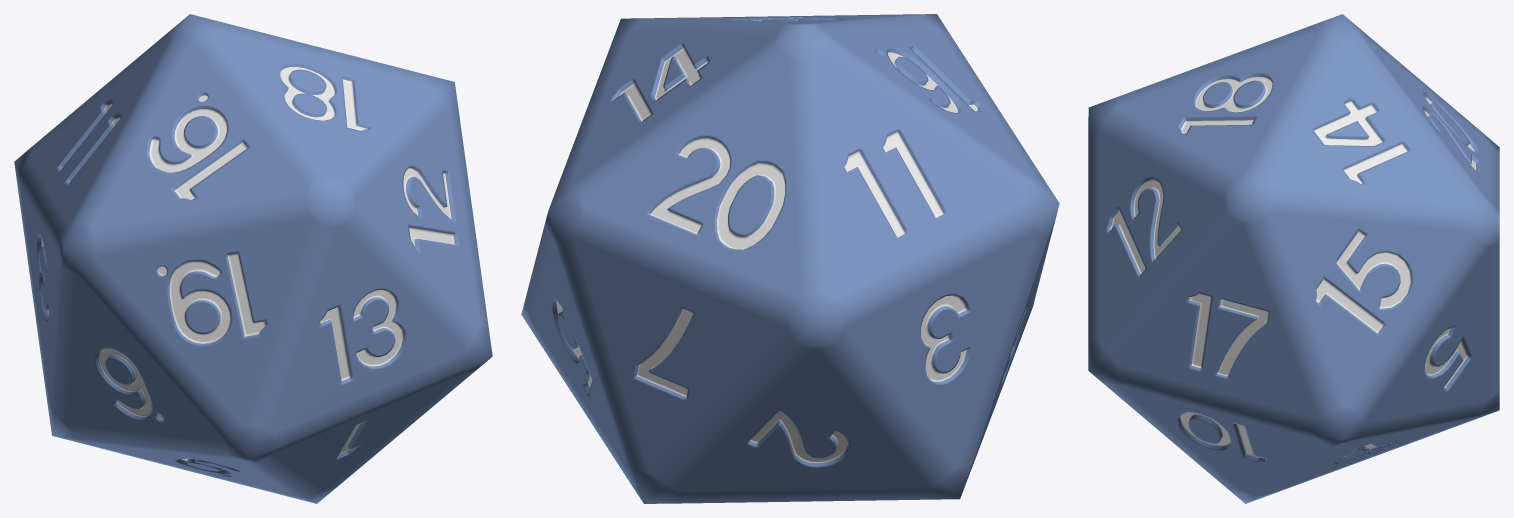
The model's file is die_20.dae.
3 views of the same model, side by side, from view 1: azimuth 30°, elevation 25°; view 2: azimuth 150°, elevation 25°; view 3: azimuth 270°, elevation 25° (orthographic). The views are drawn at different scales.
Visible parts, largest first — view 1: Die20; view 2: Die20; view 3: Die20.
Boxes of the visible parts, <box> form: Die20: <box>14,14,492,503</box>; Die20: <box>521,14,1059,503</box>; Die20: <box>1088,14,1499,503</box>.
Bounding box in the file's own units: 1.42 × 1.49 × 1.22.
